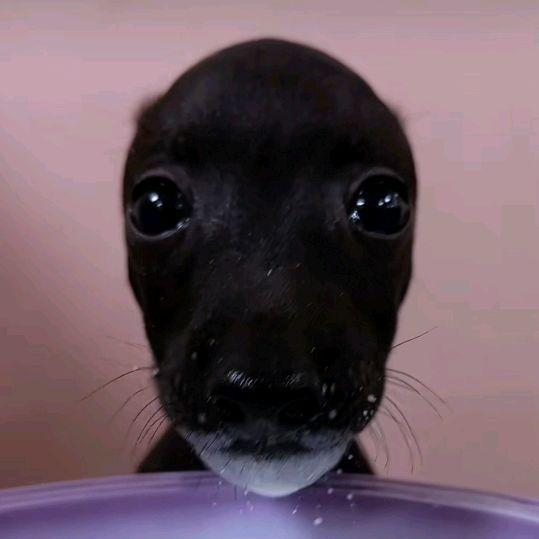puppy-dog: (117, 36, 423, 500)
